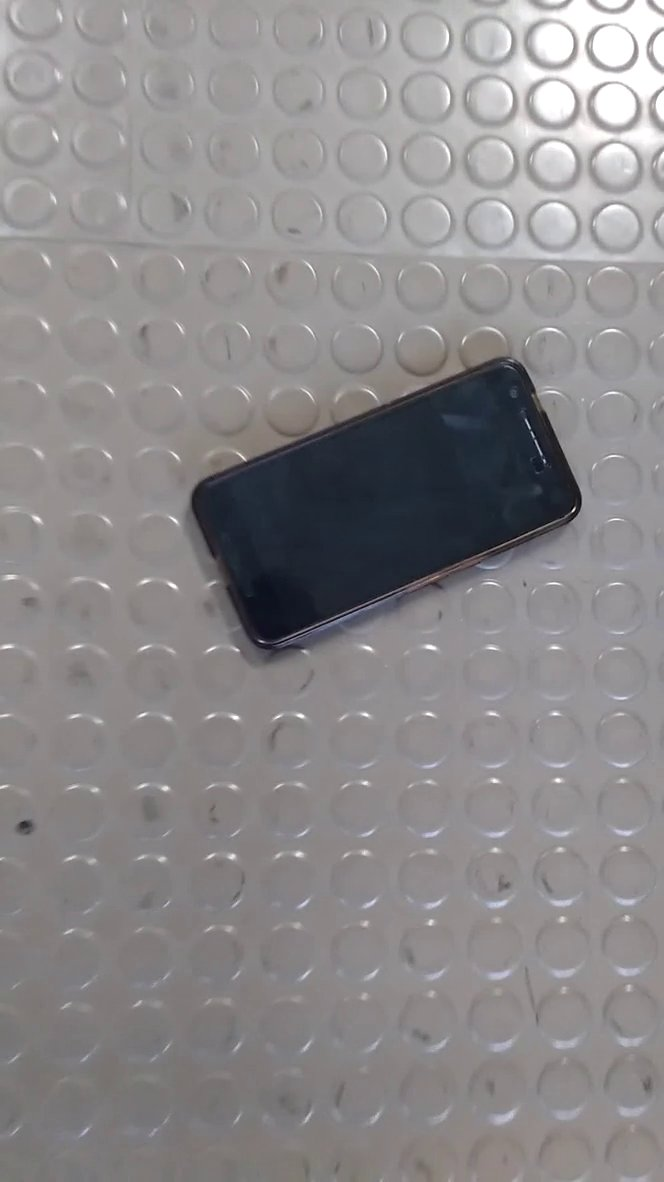phone: (181, 331, 605, 676)
